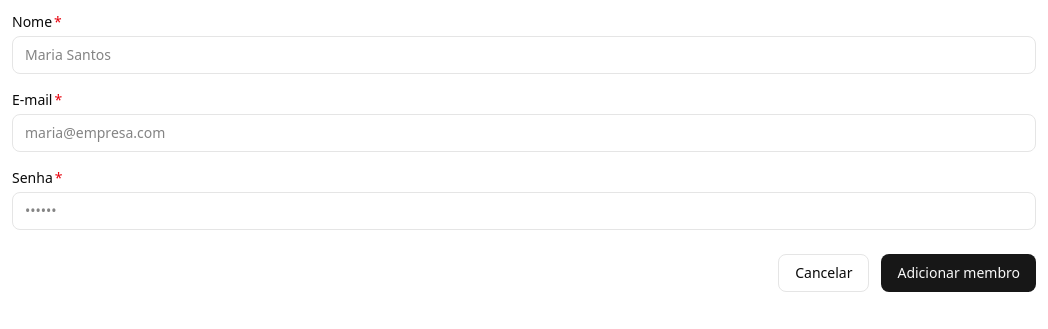
Scenario: TeamForm — validação › senha sem número → erro após blur
In the password field labelled "Senha*": [524, 211] box [12,192,1036,230], type "SemNumero"
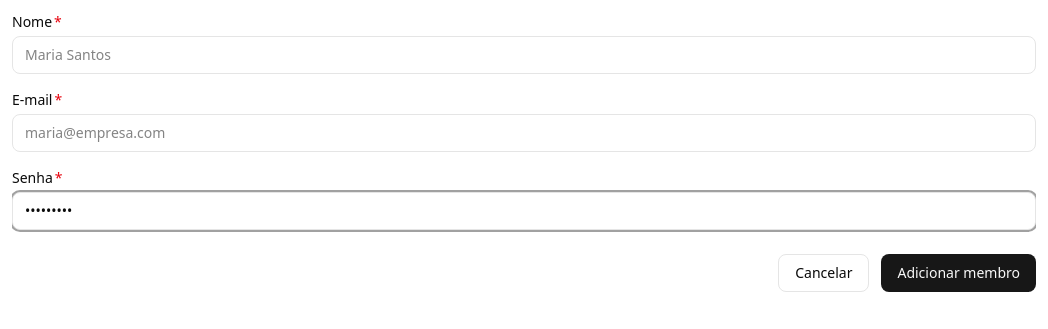
Press Tab
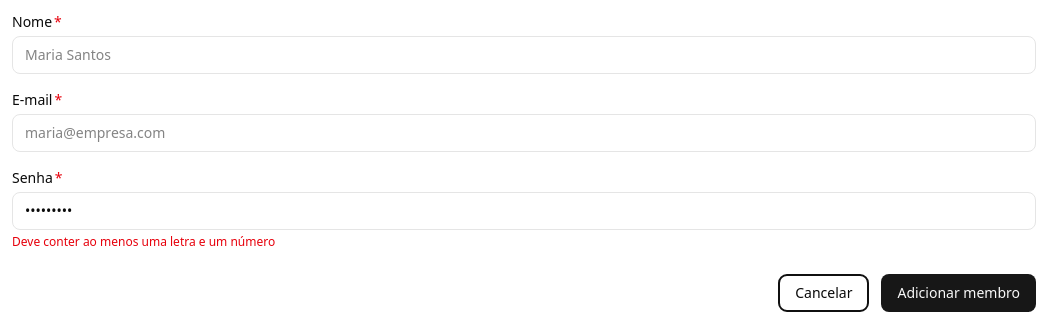
Expected: the message shows "letra e um número", [12,233,275,250]
